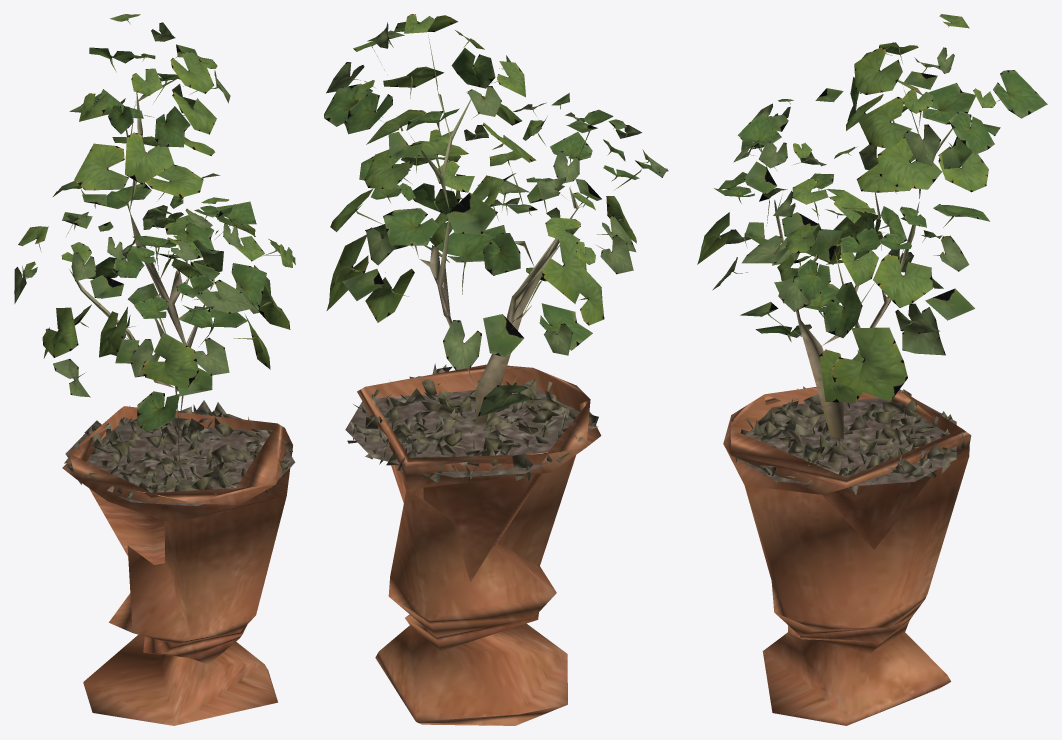
Rendered from potted_plant_01.glb.
3 views of the same model, side by side, from view 1: azimuth 30°, elevation 25°; view 2: azimuth 150°, elevation 25°; view 3: azimuth 270°, elevation 25° (orthographic). The views are drawn at different scales.
Parts seen in each view (by area): view 1: potted_plant_01_pot, potted_plant_01_leaves, potted_plant_01_pebbles, potted_plant_01_stem; view 2: potted_plant_01_pot, potted_plant_01_leaves, potted_plant_01_pebbles, potted_plant_01_stem; view 3: potted_plant_01_pot, potted_plant_01_leaves, potted_plant_01_pebbles, potted_plant_01_stem.
Part boxes in pixels (bbox=[...]): potted_plant_01_pot: bbox=[62, 406, 293, 725]; potted_plant_01_leaves: bbox=[14, 14, 295, 431]; potted_plant_01_pebbles: bbox=[64, 400, 295, 507]; potted_plant_01_stem: bbox=[69, 92, 214, 461]; potted_plant_01_pot: bbox=[357, 364, 601, 725]; potted_plant_01_leaves: bbox=[324, 14, 668, 416]; potted_plant_01_pebbles: bbox=[345, 363, 598, 482]; potted_plant_01_stem: bbox=[411, 93, 583, 424]; potted_plant_01_pot: bbox=[723, 387, 971, 725]; potted_plant_01_leaves: bbox=[697, 14, 1047, 402]; potted_plant_01_pebbles: bbox=[731, 386, 964, 494]; potted_plant_01_stem: bbox=[774, 90, 952, 439].
Size of the model in its own units: 0.5775 by 1.33 by 0.6336.
Materials: 2 (2 with a texture image).
